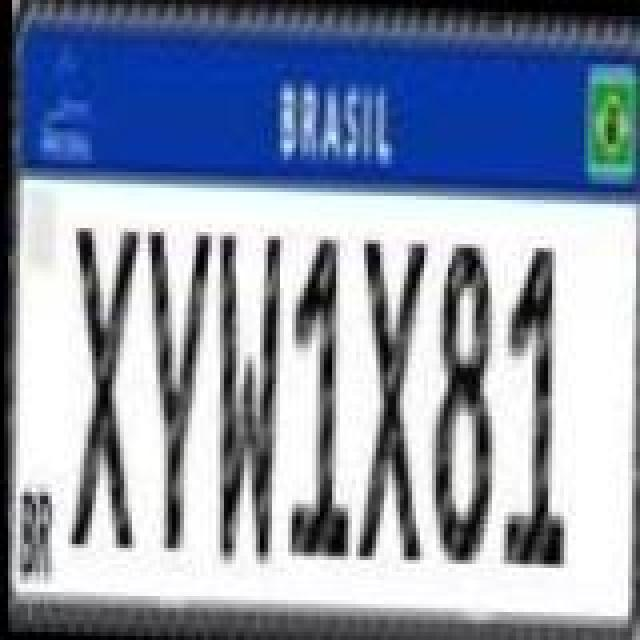1: (276, 230, 360, 558), (494, 234, 574, 574)
8: (420, 230, 496, 566)
W: (200, 222, 284, 562)
X: (348, 226, 432, 566), (60, 220, 144, 548)
Y: (132, 222, 216, 550)
